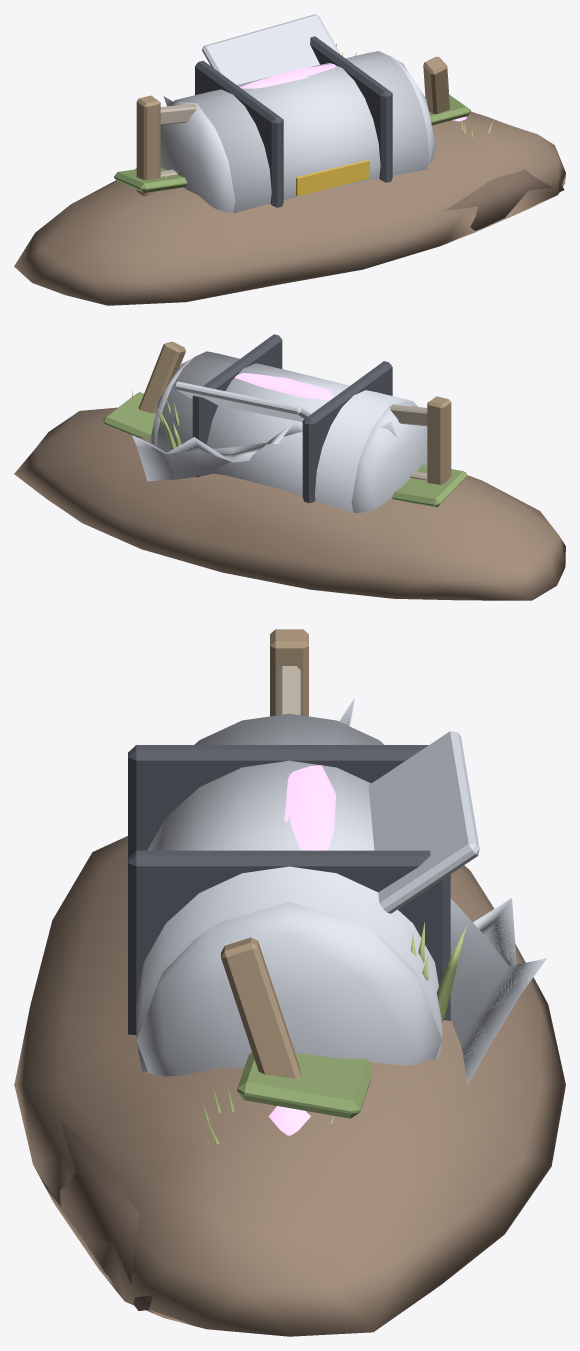
Rendered from crash_site_kit.glb.
3 views of the same model, one above another, from view 1: azimuth 30°, elevation 25°; view 2: azimuth 150°, elevation 25°; view 3: azimuth 270°, elevation 25° (orthographic). The views are drawn at different scales.
Parts seen in each view (by area): view 1: bm_body, pd_body, pd_lid, pd_capL, pd_band1, pd_band2, bm_face, fn_post0, pd_stripe, fn_post1, bm_flap0, pd_glow (+3 smaller); view 2: bm_body, pd_body, pd_capL, pl_body, pd_band1, pd_band2, fn_post0, pd_lid, fn_post1, bm_flap0, bm_flap2, pd_glow (+3 smaller); view 3: bm_body, pd_capR, pd_body, pd_band2, pd_lid, pd_band1, pl_body, bm_face, bm_flap2, fn_post1, pd_glow, fn_post0 (+2 smaller).
Boxes of the visible parts, left/top/right/bottom form: bm_body: left=14, top=111, right=565, bottom=305; pd_body: left=173, top=51, right=428, bottom=213; pd_lid: left=202, top=14, right=340, bottom=84; pd_capL: left=160, top=101, right=235, bottom=212; pd_band1: left=195, top=60, right=283, bottom=207; pd_band2: left=310, top=36, right=392, bottom=182; bm_face: left=359, top=169, right=564, bottom=270; fn_post0: left=136, top=95, right=160, bottom=196; pd_stripe: left=296, top=160, right=369, bottom=196; fn_post1: left=423, top=56, right=449, bottom=121; bm_flap0: left=114, top=167, right=187, bottom=192; pd_glow: left=240, top=64, right=335, bottom=88; bm_body: left=14, top=407, right=565, bottom=600; pd_body: left=156, top=351, right=418, bottom=513; pd_capL: left=351, top=402, right=427, bottom=512; pl_body: left=132, top=421, right=396, bottom=481; pd_band1: left=302, top=361, right=392, bottom=503; pd_band2: left=192, top=334, right=282, bottom=477; fn_post0: left=427, top=396, right=451, bottom=484; pd_lid: left=174, top=381, right=311, bottom=421; fn_post1: left=138, top=341, right=185, bottom=413; bm_flap0: left=391, top=464, right=467, bottom=507; bm_flap2: left=103, top=392, right=155, bottom=438; pd_glow: left=234, top=373, right=333, bottom=400; bm_body: left=14, top=836, right=565, bottom=1336; pd_capR: left=136, top=901, right=442, bottom=1076; pd_body: left=136, top=713, right=442, bottom=1072; pd_band2: left=128, top=850, right=450, bottom=1034; pd_lid: left=368, top=731, right=479, bottom=913; pd_band1: left=128, top=745, right=428, bottom=857; pl_body: left=339, top=698, right=546, bottom=1085; bm_face: left=14, top=1084, right=152, bottom=1310; bm_flap2: left=237, top=1052, right=372, bottom=1118; fn_post1: left=221, top=937, right=301, bottom=1106; pd_glow: left=284, top=765, right=335, bottom=850; fn_post0: left=270, top=629, right=308, bottom=716.
Size of the model in its own units: 4.3 by 1.47 by 1.98.
